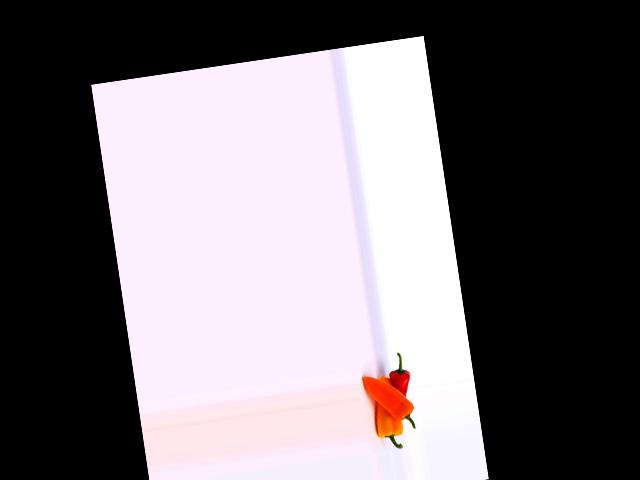bell_pepper: (366, 392, 409, 454)
